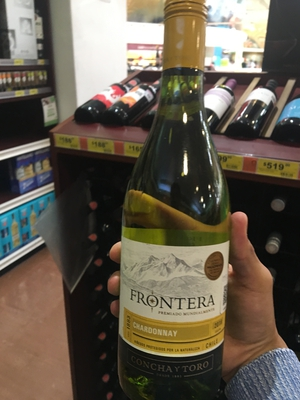frontera chardonnay: (123, 7, 234, 390)
